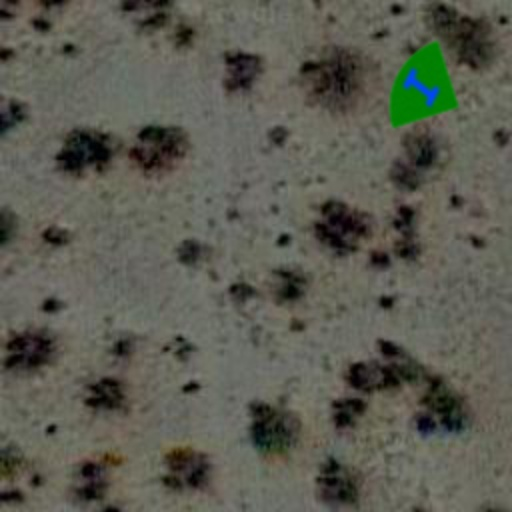quarter_circle: (358, 24, 486, 152)
